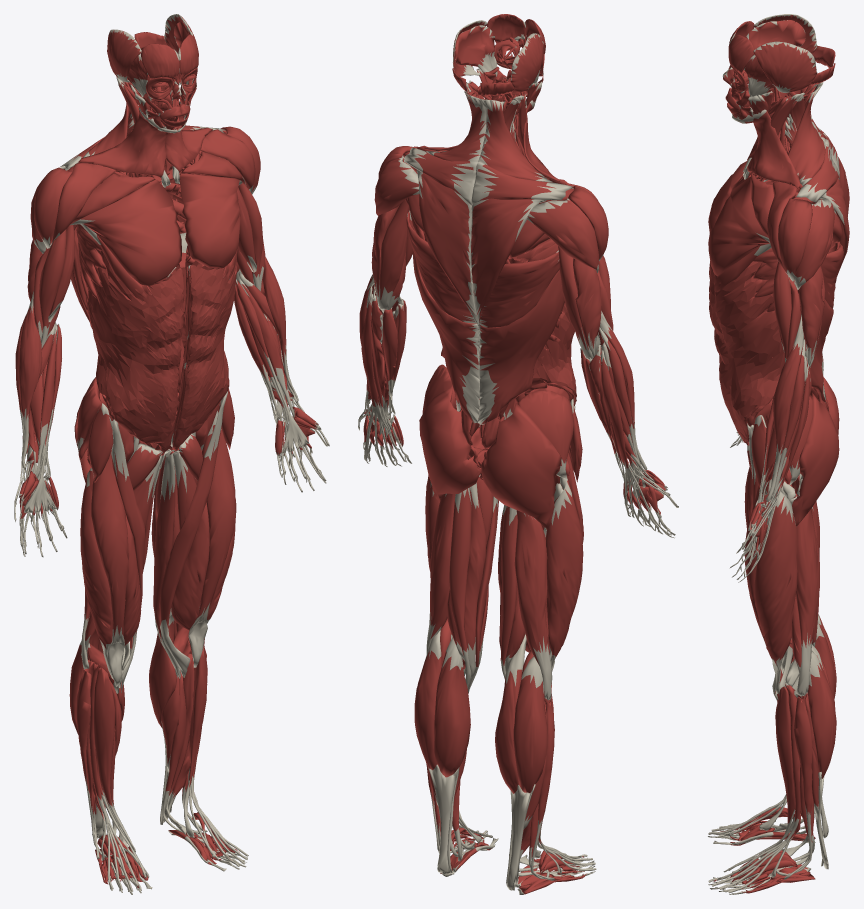
Rendered from adult_male.muscular.LOD2.glb.
3 renders of one model, left to right at view 1: azimuth 30°, elevation 25°; view 2: azimuth 150°, elevation 25°; view 3: azimuth 270°, elevation 25°, orthographic.
Visible parts, largest first — view 1: ADULT.MALE.MUSCULAR.EXTERNAL_ABDOMINAL_OBLIQUE_MUSCLE.R, ADULT.MALE.MUSCULAR.STERNOCOSTAL_HEAD_OF_PECTORALIS_MAJOR_MU (×2), ADULT.MALE.MUSCULAR.EXTERNAL_ABDOMINAL_OBLIQUE_MUSCLE.L, ADULT.MALE.MUSCULAR.RECTUS_FEMORIS_MUSCLE.R, ADULT.MALE.MUSCULAR.RECTUS_FEMORIS_MUSCLE.L, ADULT.MALE.MUSCULAR.SARTORIUS_MUSCLE.L, ADULT.MALE.MUSCULAR.VASTUS_LATERALIS_MUSCLE.R, ADULT.MALE.MUSCULAR.PLATYSMA.R, ADULT.MALE.MUSCULAR.VASTUS_MEDIALIS_MUSCLE.L, ADULT.MALE.MUSCULAR.GRACILIS_MUSCLE.L, ADULT.MALE.MUSCULAR.CLAVICULAR_HEAD_OF_PECTORALIS_MAJOR_MUSC (×2), ADULT.MALE.MUSCULAR.TIBIALIS_ANTERIOR_MUSCLE.R (+42 smaller); view 2: ADULT.MALE.MUSCULAR.LATISSIMUS_DORSI_MUSCLE.R, ADULT.MALE.MUSCULAR.GLUTEUS_MAXIMUS_MUSCLE.R, ADULT.MALE.MUSCULAR.LATISSIMUS_DORSI_MUSCLE.L, ADULT.MALE.MUSCULAR.VASTUS_LATERALIS_MUSCLE.R, ADULT.MALE.MUSCULAR.DESCENDING_PART_OF_TRAPEZIUS_MUSCLE.L, ADULT.MALE.MUSCULAR.LONG_HEAD_OF_BICEPS_FEMORIS.R, ADULT.MALE.MUSCULAR.DESCENDING_PART_OF_TRAPEZIUS_MUSCLE.R, ADULT.MALE.MUSCULAR.GLUTEUS_MAXIMUS_MUSCLE.L, ADULT.MALE.MUSCULAR.MEDIAL_HEAD_OF_GASTROCNEMIUS.L, ADULT.MALE.MUSCULAR.LATERAL_HEAD_OF_GASTROCNEMIUS.R, ADULT.MALE.MUSCULAR.SCAPULAR_SPINAL_PART_OF_DELTOID_MUSCLE.R, ADULT.MALE.MUSCULAR.SEMITENDINOSUS_MUSCLE.L (+33 smaller); view 3: ADULT.MALE.MUSCULAR.EXTERNAL_ABDOMINAL_OBLIQUE_MUSCLE.L, ADULT.MALE.MUSCULAR.VASTUS_LATERALIS_MUSCLE.L, ADULT.MALE.MUSCULAR.STERNOCOSTAL_HEAD_OF_PECTORALIS_MAJOR_MU (×2), ADULT.MALE.MUSCULAR.GLUTEUS_MAXIMUS_MUSCLE.L, ADULT.MALE.MUSCULAR.LONG_HEAD_OF_BICEPS_FEMORIS.L, ADULT.MALE.MUSCULAR.TEMPOROPARIETALIS_MUSCLE.L, ADULT.MALE.MUSCULAR.LATERAL_HEAD_OF_GASTROCNEMIUS.L, ADULT.MALE.MUSCULAR.PLATYSMA.L, ADULT.MALE.MUSCULAR.BRACHIORADIALIS_MUSCLE.L, ADULT.MALE.MUSCULAR.ACROMIAL_PART_OF_DELTOID_MUSCLE.L, ADULT.MALE.MUSCULAR.SCAPULAR_SPINAL_PART_OF_DELTOID_MUSCLE.L, ADULT.MALE.MUSCULAR.ASCENDING_PART_OF_TRAPEZIUS_MUSCLE.L (+43 smaller).
Boxes of the visible parts, x1,y1,x2,y2 form: ADULT.MALE.MUSCULAR.EXTERNAL_ABDOMINAL_OBLIQUE_MUSCLE.R: (87,251,184,443); ADULT.MALE.MUSCULAR.STERNOCOSTAL_HEAD_OF_PECTORALIS_MAJOR_MU (×2): (70,173,242,285); ADULT.MALE.MUSCULAR.EXTERNAL_ABDOMINAL_OBLIQUE_MUSCLE.L: (178,255,237,441); ADULT.MALE.MUSCULAR.RECTUS_FEMORIS_MUSCLE.R: (91,434,128,686); ADULT.MALE.MUSCULAR.RECTUS_FEMORIS_MUSCLE.L: (188,410,236,667); ADULT.MALE.MUSCULAR.SARTORIUS_MUSCLE.L: (159,391,227,677); ADULT.MALE.MUSCULAR.VASTUS_LATERALIS_MUSCLE.R: (80,468,113,679); ADULT.MALE.MUSCULAR.PLATYSMA.R: (78,107,177,177); ADULT.MALE.MUSCULAR.VASTUS_MEDIALIS_MUSCLE.L: (171,503,209,652); ADULT.MALE.MUSCULAR.GRACILIS_MUSCLE.L: (153,451,180,678); ADULT.MALE.MUSCULAR.CLAVICULAR_HEAD_OF_PECTORALIS_MAJOR_MUSC (×2): (70,151,246,224); ADULT.MALE.MUSCULAR.TIBIALIS_ANTERIOR_MUSCLE.R: (93,667,135,851); ADULT.MALE.MUSCULAR.LATISSIMUS_DORSI_MUSCLE.R: (478,250,564,424); ADULT.MALE.MUSCULAR.GLUTEUS_MAXIMUS_MUSCLE.R: (481,403,561,529); ADULT.MALE.MUSCULAR.LATISSIMUS_DORSI_MUSCLE.L: (406,210,479,423); ADULT.MALE.MUSCULAR.VASTUS_LATERALIS_MUSCLE.R: (545,477,583,668); ADULT.MALE.MUSCULAR.DESCENDING_PART_OF_TRAPEZIUS_MUSCLE.L: (417,170,478,325); ADULT.MALE.MUSCULAR.LONG_HEAD_OF_BICEPS_FEMORIS.R: (514,510,552,700); ADULT.MALE.MUSCULAR.DESCENDING_PART_OF_TRAPEZIUS_MUSCLE.R: (471,198,546,326); ADULT.MALE.MUSCULAR.GLUTEUS_MAXIMUS_MUSCLE.L: (419,387,481,501); ADULT.MALE.MUSCULAR.MEDIAL_HEAD_OF_GASTROCNEMIUS.L: (433,637,470,777); ADULT.MALE.MUSCULAR.LATERAL_HEAD_OF_GASTROCNEMIUS.R: (513,656,547,793); ADULT.MALE.MUSCULAR.SCAPULAR_SPINAL_PART_OF_DELTOID_MUSCLE.R: (527,198,599,272); ADULT.MALE.MUSCULAR.SEMITENDINOSUS_MUSCLE.L: (449,487,471,687); ADULT.MALE.MUSCULAR.EXTERNAL_ABDOMINAL_OBLIQUE_MUSCLE.L: (709,261,784,441); ADULT.MALE.MUSCULAR.VASTUS_LATERALIS_MUSCLE.L: (754,491,797,694); ADULT.MALE.MUSCULAR.STERNOCOSTAL_HEAD_OF_PECTORALIS_MAJOR_MU (×2): (708,161,769,275); ADULT.MALE.MUSCULAR.GLUTEUS_MAXIMUS_MUSCLE.L: (792,392,839,526); ADULT.MALE.MUSCULAR.LONG_HEAD_OF_BICEPS_FEMORIS.L: (796,495,819,697); ADULT.MALE.MUSCULAR.TEMPOROPARIETALIS_MUSCLE.L: (753,41,817,92); ADULT.MALE.MUSCULAR.LATERAL_HEAD_OF_GASTROCNEMIUS.L: (808,651,836,778); ADULT.MALE.MUSCULAR.PLATYSMA.L: (732,109,800,188); ADULT.MALE.MUSCULAR.BRACHIORADIALIS_MUSCLE.L: (766,314,803,502); ADULT.MALE.MUSCULAR.ACROMIAL_PART_OF_DELTOID_MUSCLE.L: (778,198,812,281); ADULT.MALE.MUSCULAR.SCAPULAR_SPINAL_PART_OF_DELTOID_MUSCLE.L: (794,199,834,289); ADULT.MALE.MUSCULAR.ASCENDING_PART_OF_TRAPEZIUS_MUSCLE.L: (787,82,825,185).
Size of the model in its own units: 0.6595 by 1.67 by 0.2582.
